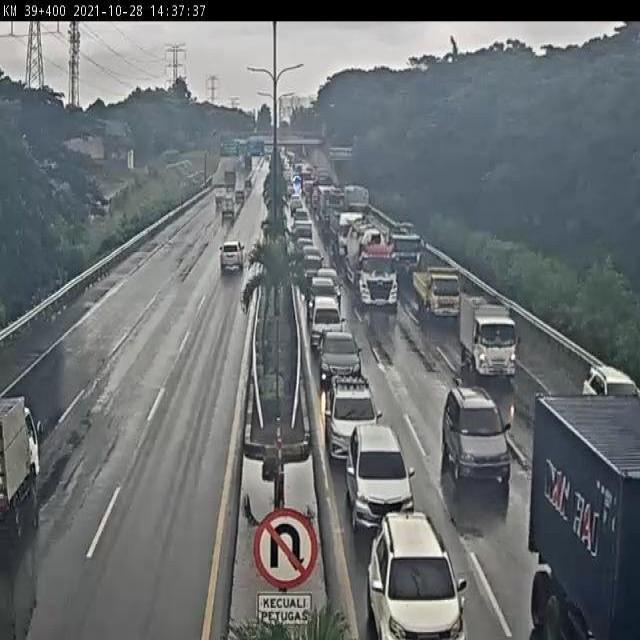big truck: (521, 376, 640, 640), (339, 210, 395, 310)
car: (363, 506, 468, 640), (344, 415, 414, 537), (440, 384, 510, 491), (322, 367, 384, 464), (314, 327, 365, 389), (406, 256, 456, 315), (309, 294, 347, 354), (577, 363, 640, 397), (307, 272, 341, 324), (219, 236, 248, 276)
small truck: (0, 391, 48, 541), (458, 291, 520, 381)
